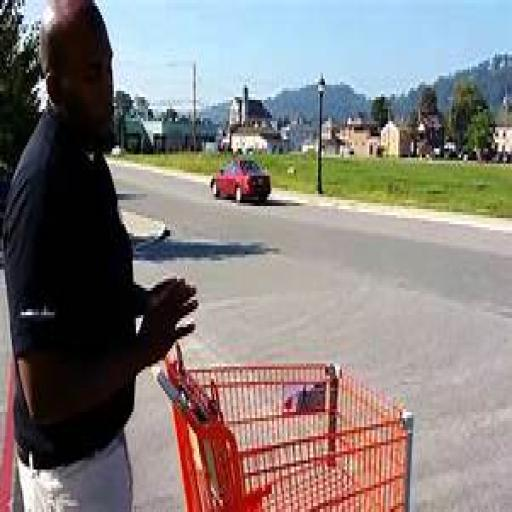shopping_cart: (150, 353, 415, 512)
